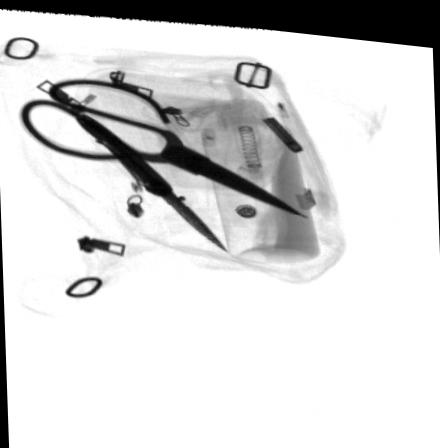Knife: (73, 111, 229, 246)
Scissors: (16, 74, 307, 210)
